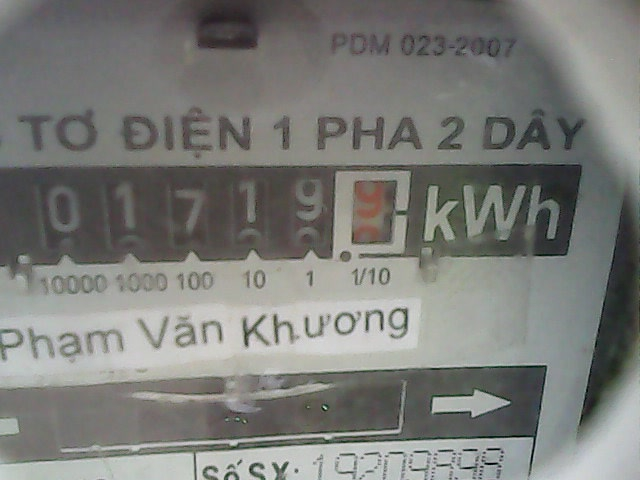phy_plate: (25, 163, 416, 263)
